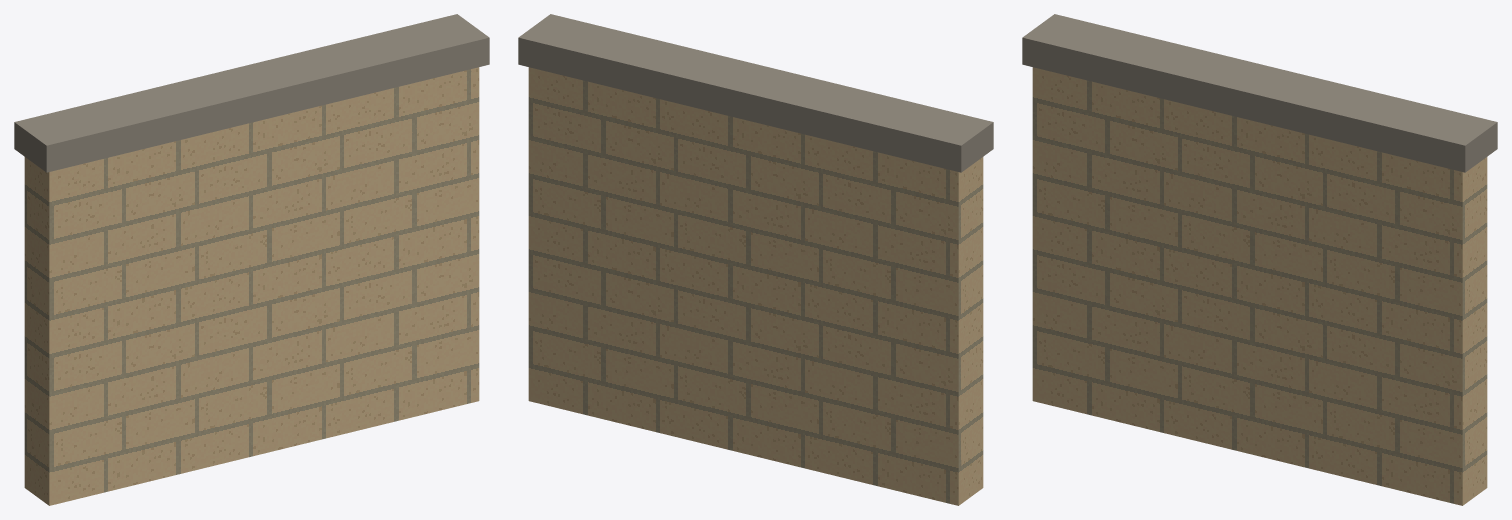
Rendered from cswall.obj.
3 renders of one model, left to right at view 1: azimuth 30°, elevation 25°; view 2: azimuth 150°, elevation 25°; view 3: azimuth 330°, elevation 25°, orthographic.
Visible parts, largest first — view 1: body, cap; view 2: body, cap; view 3: body, cap.
Part boxes in pixels (x1,y1,x2,y2): body: (24,67,479,505); cap: (14,14,489,172); body: (528,67,983,505); cap: (518,14,993,172); body: (1032,67,1487,505); cap: (1022,14,1497,172).
Bounding box in the file's own units: 4.12 × 3.24 × 0.52.
2 materials, 1 textured.
